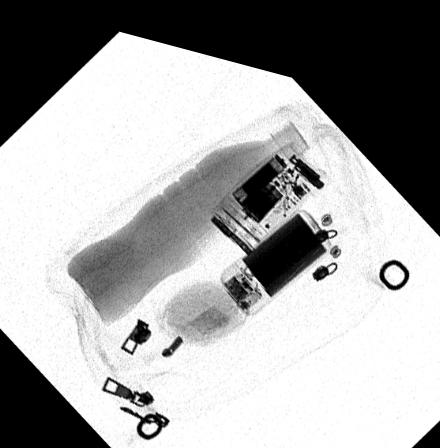Powerbank: (219, 191, 333, 303)
